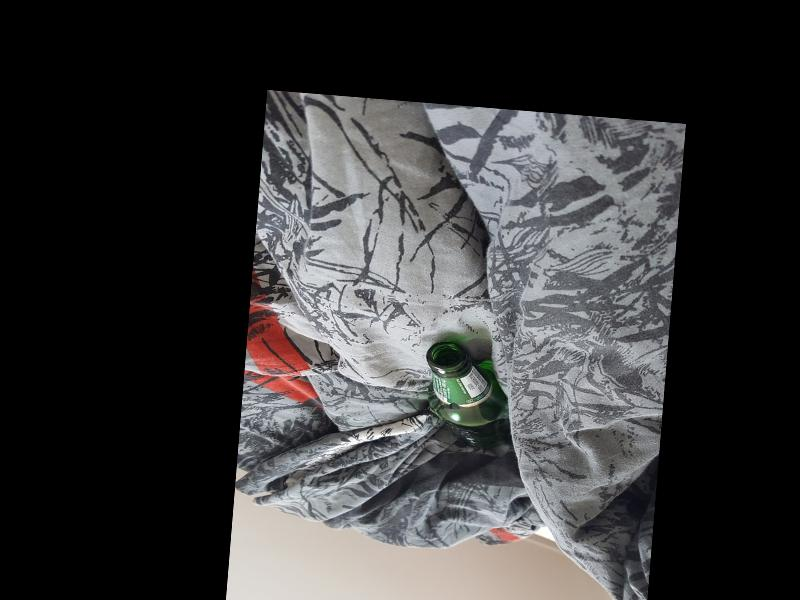Beer: (422, 339, 511, 448)
